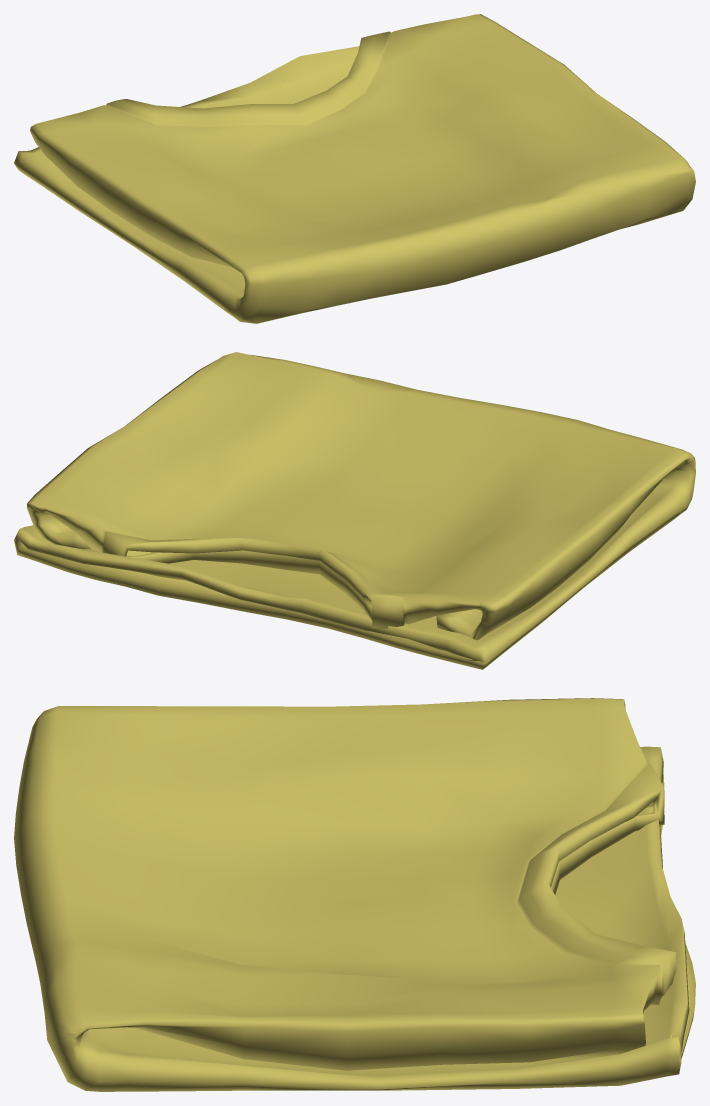
Rendered from Folded_T_Shirt14.fbx.
The picture shows the model from 3 angles, top to bottom: view 1: azimuth 30°, elevation 25°; view 2: azimuth 150°, elevation 25°; view 3: azimuth 270°, elevation 25°; orthographic projection. The views are drawn at different scales.
Visible parts, largest first — view 1: Folded_T_Shirt14; view 2: Folded_T_Shirt14; view 3: Folded_T_Shirt14.
Boxes of the visible parts, x1=… form: Folded_T_Shirt14: x1=14, y1=14, x2=695, y2=323; Folded_T_Shirt14: x1=14, y1=352, x2=695, y2=669; Folded_T_Shirt14: x1=14, y1=698, x2=695, y2=1091.
Size of the model in its own units: 36.95 by 4.2 by 32.8.
